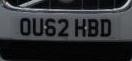2: (57, 18, 69, 37)
6: (45, 18, 56, 37)
B: (88, 18, 99, 38)
D: (100, 18, 111, 38)
H: (74, 18, 86, 37)
O: (20, 17, 31, 36)
U: (32, 17, 44, 36)
